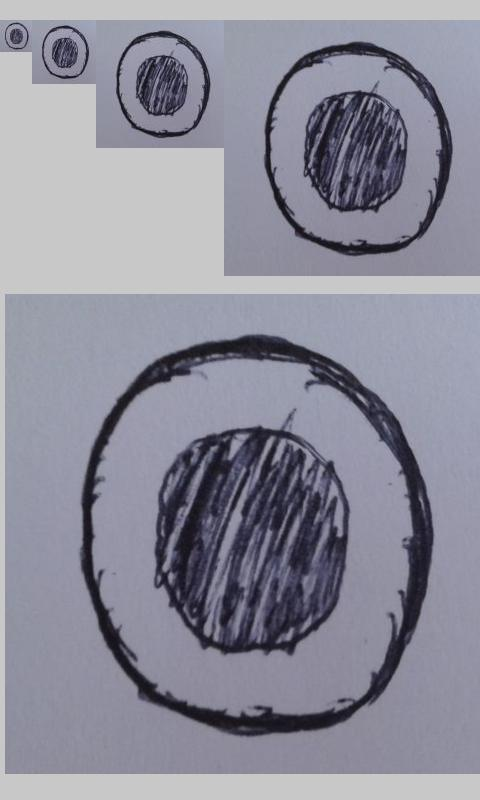radio_button: (79, 333, 435, 737), (264, 40, 454, 259), (115, 30, 210, 139), (41, 25, 90, 80), (4, 22, 29, 50)
